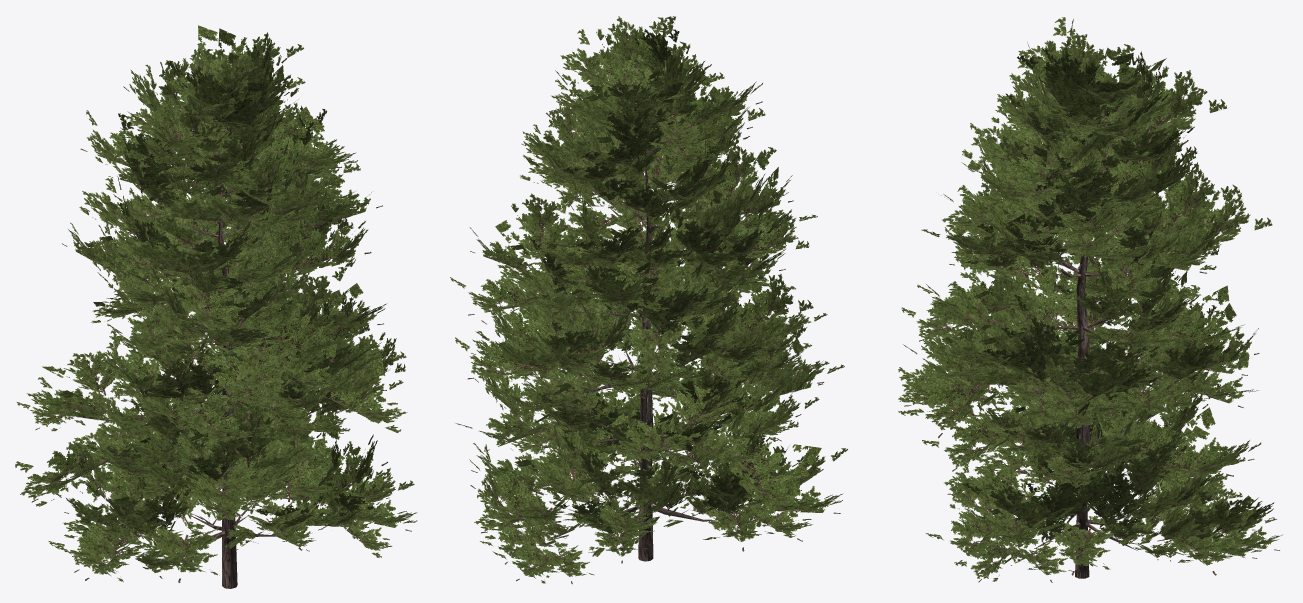
Rendered from noblefir.glb.
The picture shows the model from 3 angles, left to right: view 1: azimuth 30°, elevation 25°; view 2: azimuth 150°, elevation 25°; view 3: azimuth 270°, elevation 25°; orthographic projection. The views are drawn at different scales.
Parts seen in each view (by area): view 1: noblefir; view 2: noblefir; view 3: noblefir.
Boxes of the visible parts, <box> form: noblefir: <box>15,25,417,588</box>; noblefir: <box>450,16,847,584</box>; noblefir: <box>898,17,1282,582</box>.
Size of the model in its own units: 9.18 by 13 by 8.79.
2 materials, 2 textured.
